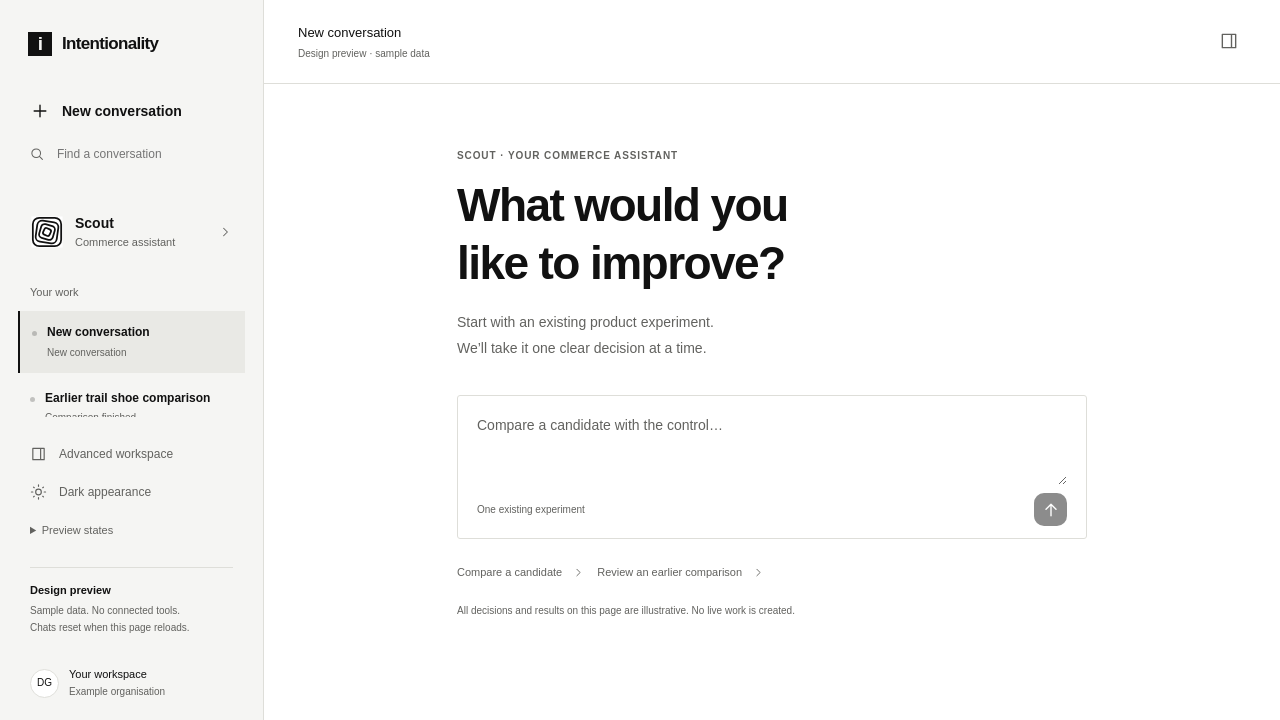
Test: sample workspace interaction boundaries › opens an earlier comparison without replacing the new conversation's draft or state
This screenshot has width=1280, height=720.
Type "My next comparison" into the text box named "Message Scout" at (772, 449), box x1=477 y1=414 x2=1067 y2=485
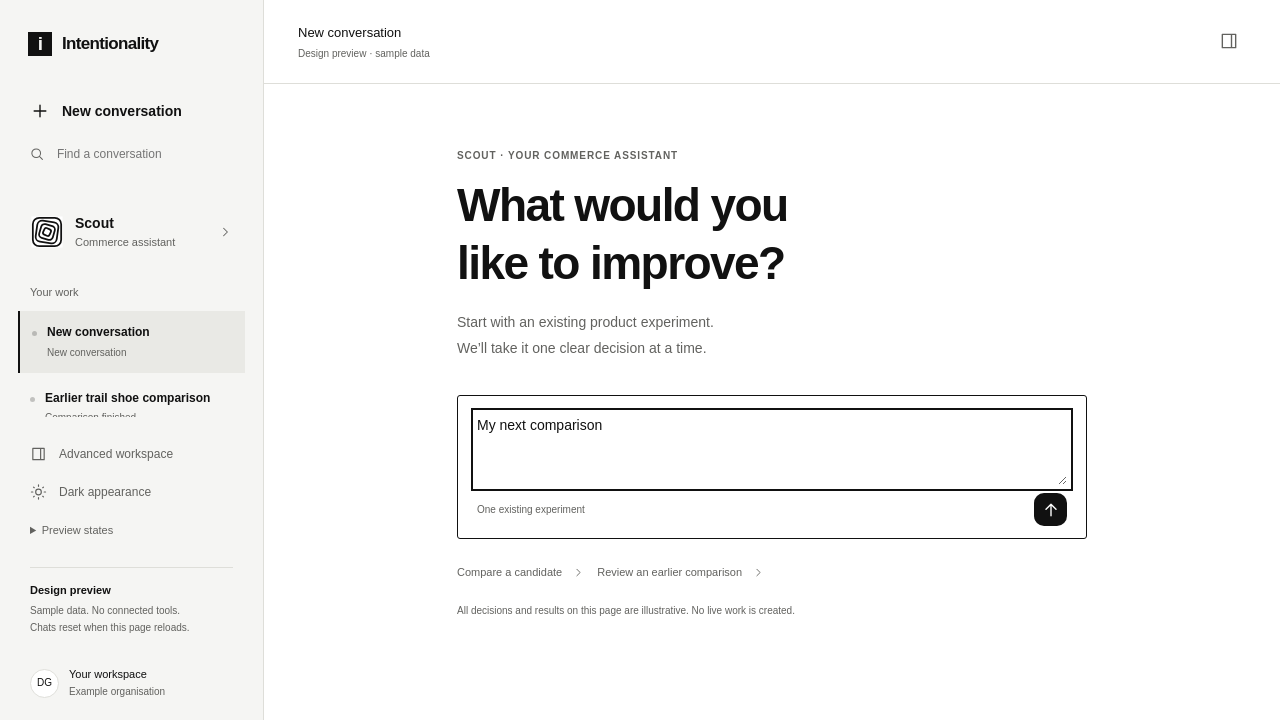
Click the button "Review an earlier comparison" at (681, 573), box x1=597 y1=557 x2=765 y2=589
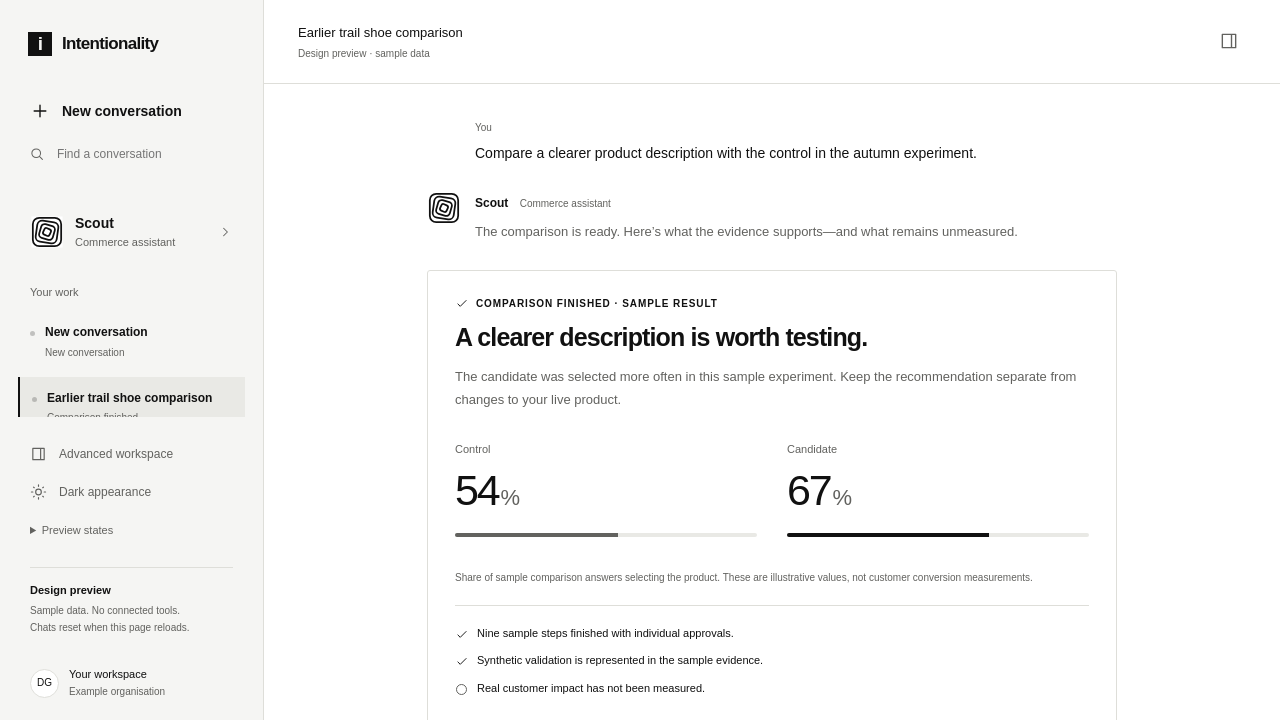
Now the button "Earlier trail shoe comparison Comparison finished" is marked as current, box x1=18 y1=376 x2=245 y2=417
Click the button "New conversation New conversation" at (132, 342), box x1=18 y1=311 x2=245 y2=372
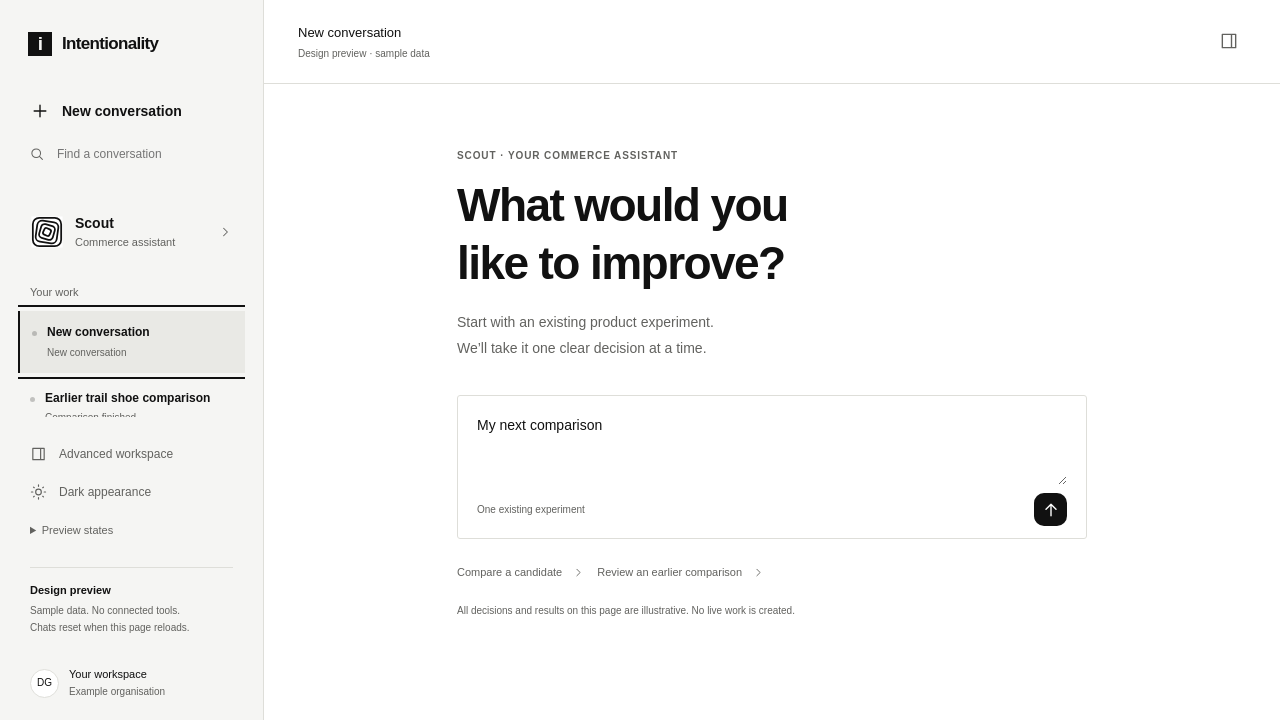
Now the heading named "What would you like to improve?" is shown, box x1=457 y1=179 x2=788 y2=289
